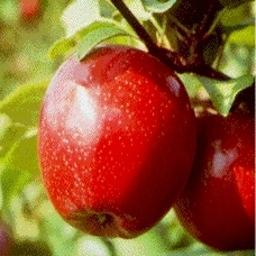apple: (35, 47, 198, 233), (173, 109, 255, 250)
